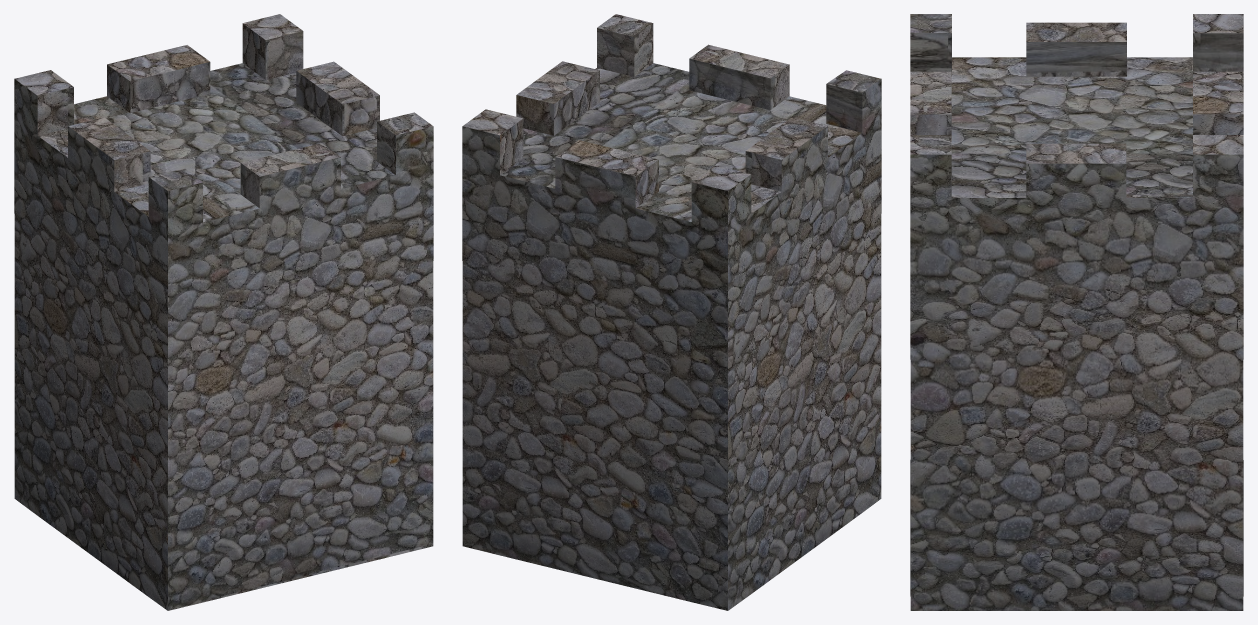
Rendered from towerwall2.glb.
The picture shows the model from 3 angles, left to right: view 1: azimuth 30°, elevation 25°; view 2: azimuth 150°, elevation 25°; view 3: azimuth 270°, elevation 25°; orthographic projection. The views are drawn at different scales.
Visible parts, largest first — view 1: Cube; view 2: Cube; view 3: Cube.
Part boxes in pixels (x1,y1,x2,y2): Cube: (14, 14, 433, 610); Cube: (462, 14, 881, 610); Cube: (910, 14, 1243, 610).
Bounding box in the file's own units: 2 × 3.02 × 2.
Materials: 1 (1 with a texture image).
